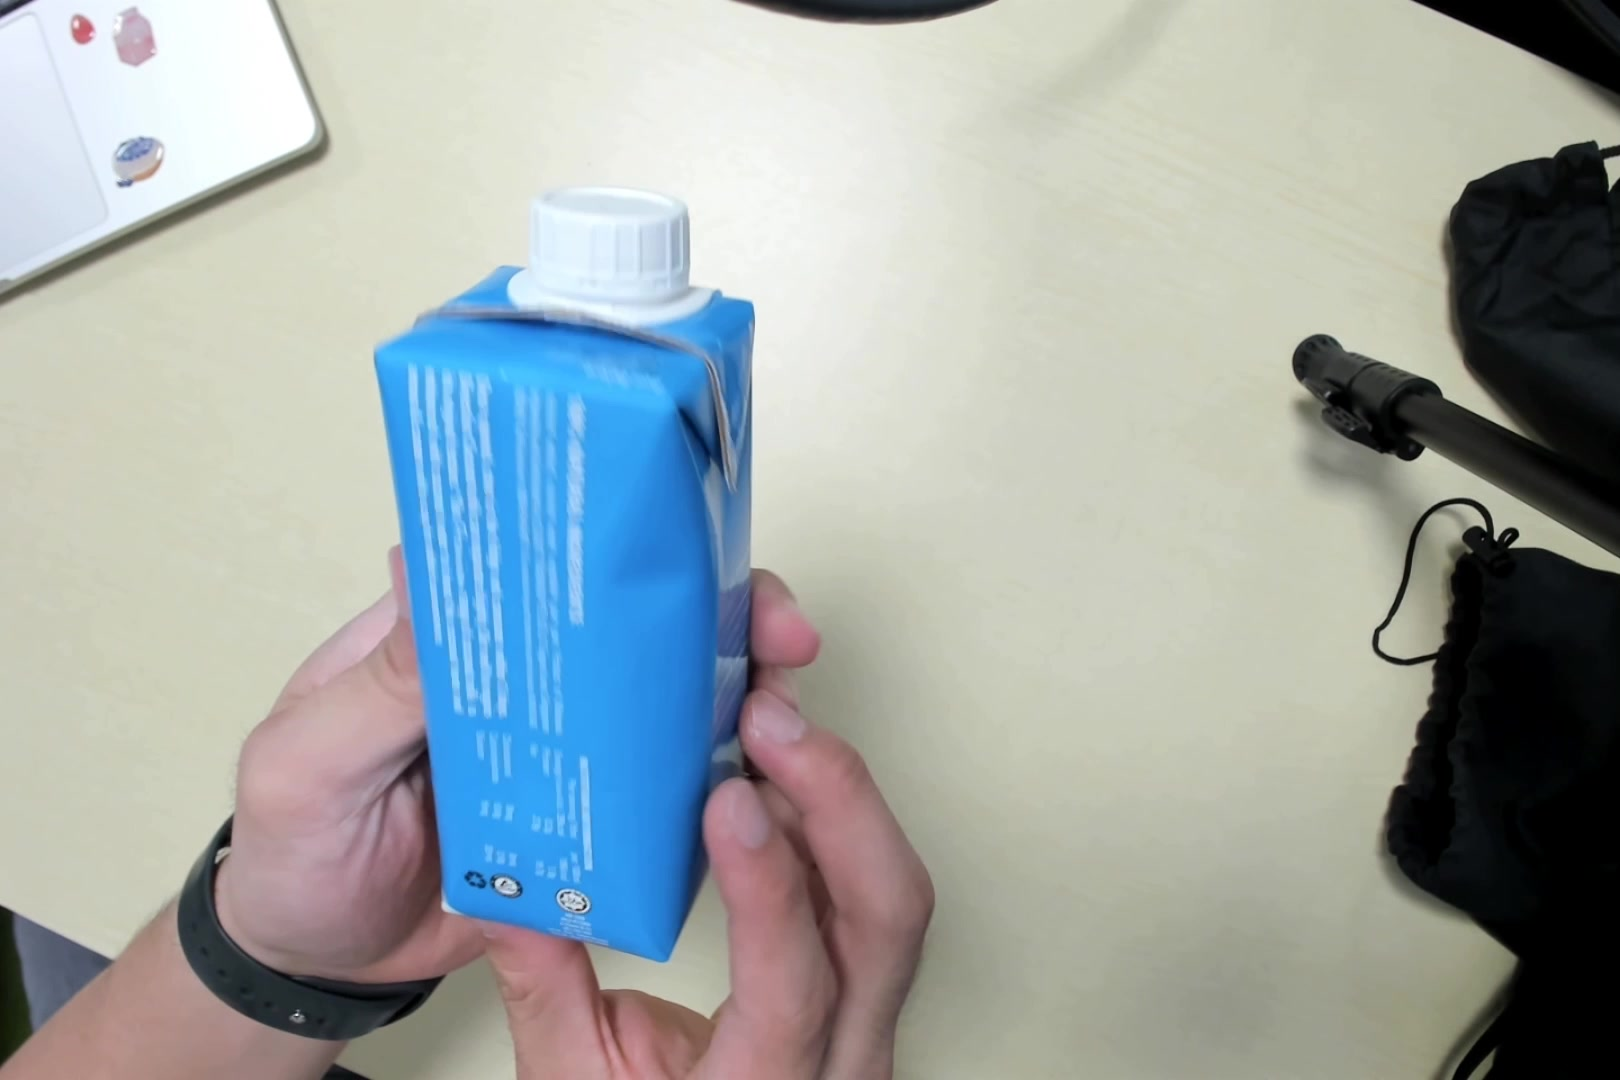CookingCreamMilk_300-399g_Halal_NonHealthy: (393, 184, 749, 968)
